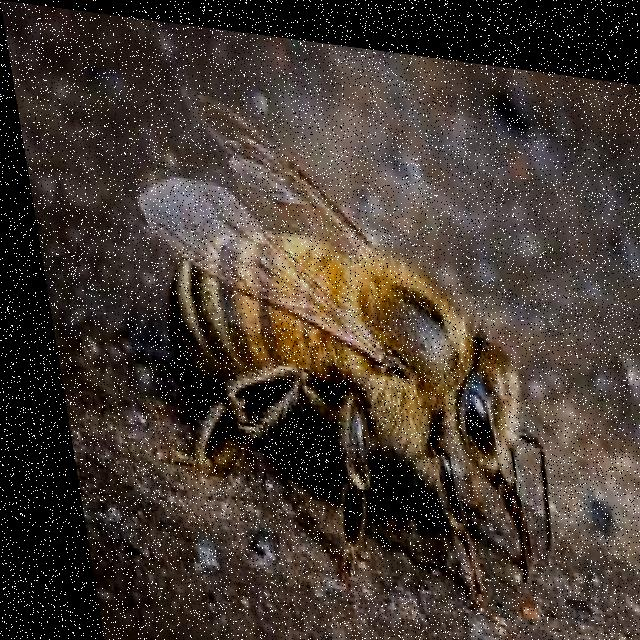Apis-mellifera-scutellata: (105, 44, 585, 635)
